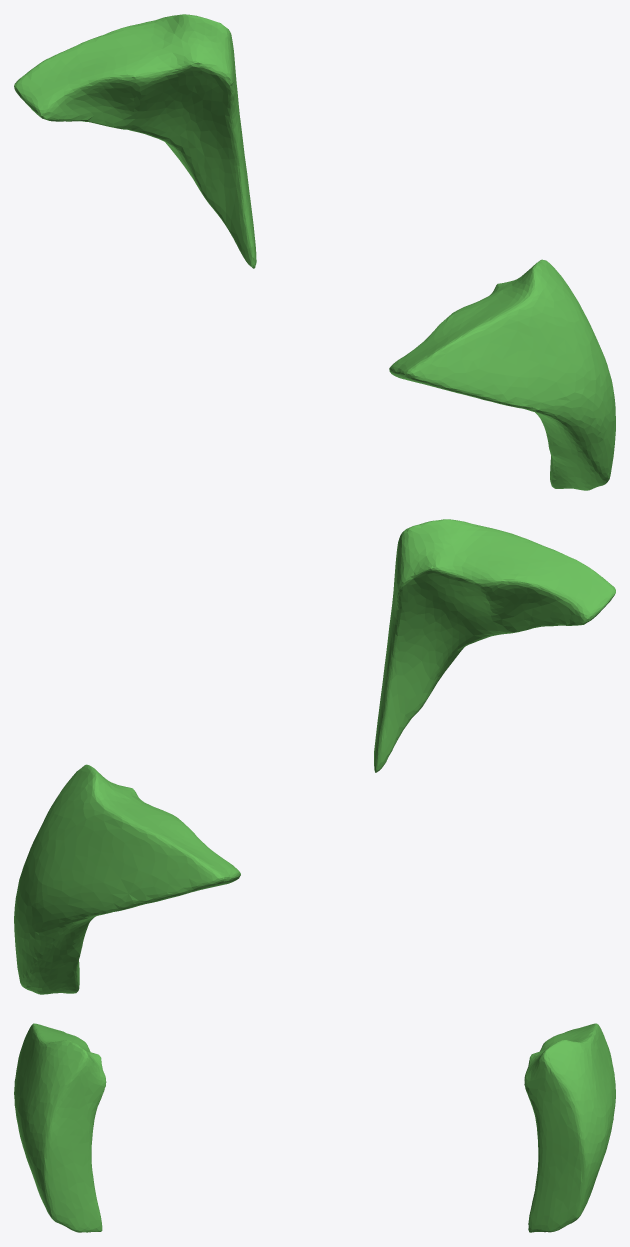
3 views of the same model, one above another, from view 1: azimuth 30°, elevation 25°; view 2: azimuth 150°, elevation 25°; view 3: azimuth 270°, elevation 25° (orthographic). The views are drawn at different scales.
Parts seen in each view (by area): view 1: 918.obj; view 2: 918.obj; view 3: 918.obj.
Part boxes in pixels (x1=…): 918.obj: x1=14, y1=14, x2=615, y2=490; 918.obj: x1=14, y1=519, x2=615, y2=994; 918.obj: x1=14, y1=1023, x2=615, y2=1232.
Size of the model in its own units: 2995 by 3269 by 10109.
